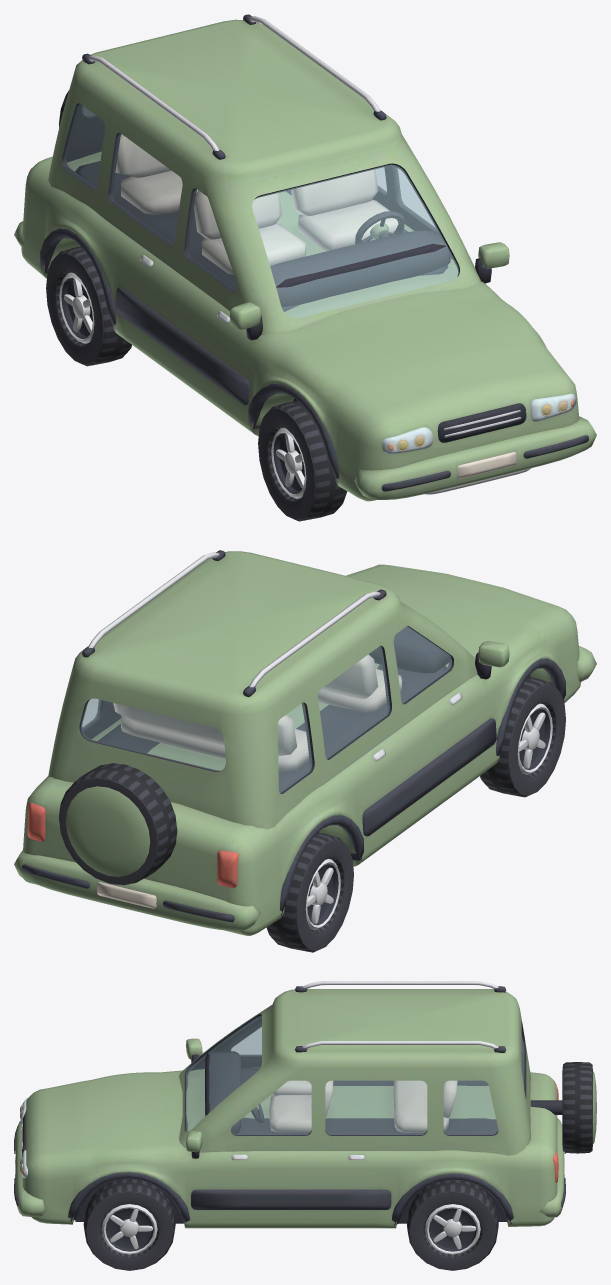
The model's file is 1990s-suv.glb.
The picture shows the model from 3 angles, top to bottom: view 1: azimuth 30°, elevation 25°; view 2: azimuth 150°, elevation 25°; view 3: azimuth 270°, elevation 25°; orthographic projection. The views are drawn at different scales.
Visible parts, largest first — view 1: 1990s-suv_body, 1990s-suv_windows, 1990s-suv_wheel_fr, 1990s-suv_wheel_rr; view 2: 1990s-suv_body, 1990s-suv_windows, 1990s-suv_spare_tyre, 1990s-suv_wheel_rr, 1990s-suv_wheel_fr; view 3: 1990s-suv_body, 1990s-suv_windows, 1990s-suv_wheel_fl, 1990s-suv_wheel_rl, 1990s-suv_spare_tyre.
Boxes of the visible parts, bbox=[...] form: 1990s-suv_body: bbox=[14, 14, 596, 501]; 1990s-suv_windows: bbox=[64, 103, 458, 317]; 1990s-suv_wheel_fr: bbox=[258, 400, 347, 521]; 1990s-suv_wheel_rr: bbox=[46, 246, 131, 366]; 1990s-suv_body: bbox=[14, 550, 596, 935]; 1990s-suv_windows: bbox=[81, 626, 451, 792]; 1990s-suv_spare_tyre: bbox=[59, 763, 177, 885]; 1990s-suv_wheel_rr: bbox=[266, 832, 353, 952]; 1990s-suv_wheel_fr: bbox=[480, 677, 565, 797]; 1990s-suv_body: bbox=[14, 981, 565, 1228]; 1990s-suv_windows: bbox=[186, 1015, 523, 1134]; 1990s-suv_wheel_fl: bbox=[83, 1178, 175, 1270]; 1990s-suv_wheel_rl: bbox=[407, 1180, 498, 1270]; 1990s-suv_spare_tyre: bbox=[530, 1062, 596, 1153].
Size of the model in its own units: 1.95 by 1.91 by 4.69.
24 materials, 6 textured.
